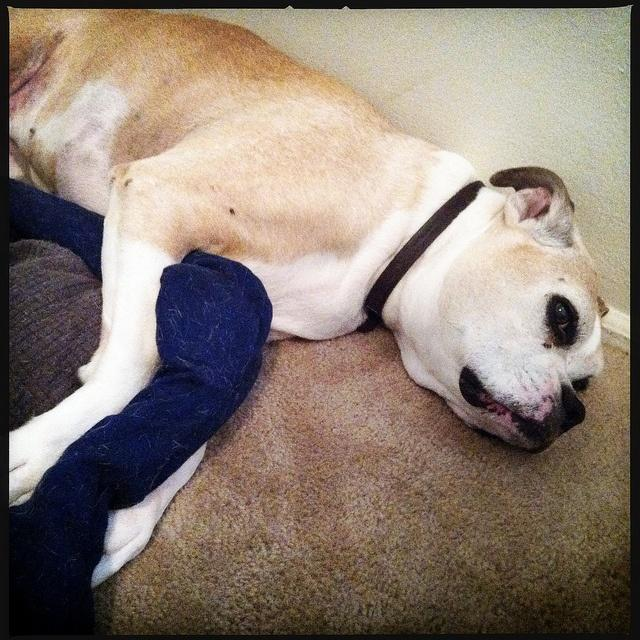dog: (9, 1, 610, 588)
